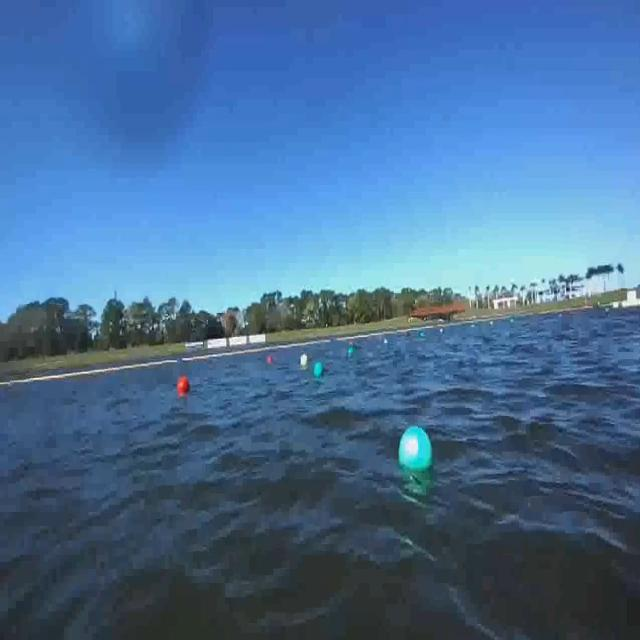green-buoy: (398, 425, 435, 475), (314, 359, 324, 376)
red-buoy: (181, 374, 194, 394)
